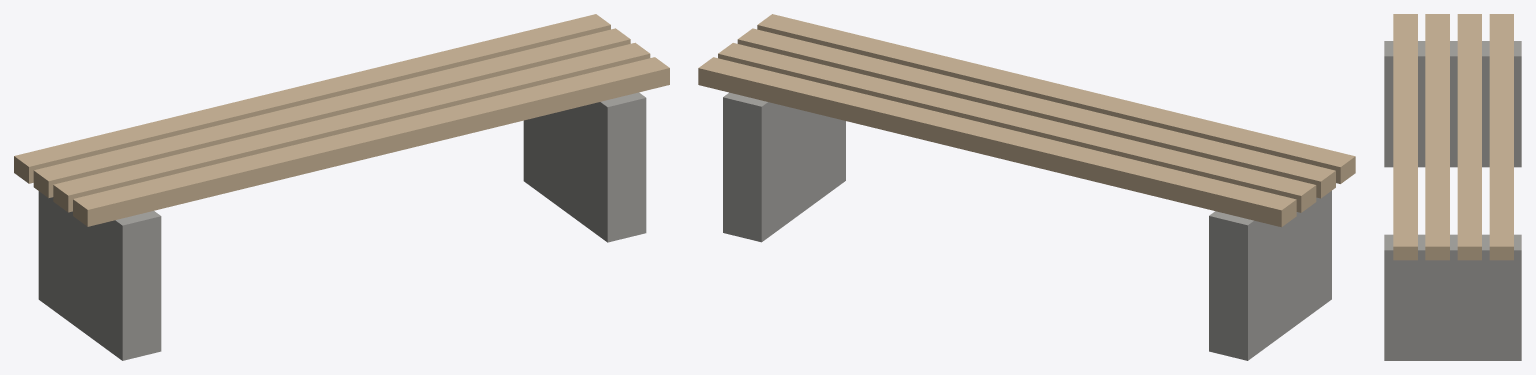
Rendered from HK_Bench.glb.
The picture shows the model from 3 angles, left to right: view 1: azimuth 30°, elevation 25°; view 2: azimuth 150°, elevation 25°; view 3: azimuth 270°, elevation 25°; orthographic projection. The views are drawn at different scales.
Visible parts, largest first — view 1: HK_Bench; view 2: HK_Bench; view 3: HK_Bench.
Boxes of the visible parts, left/top/right/bottom form: HK_Bench: left=14, top=14, right=669, bottom=360; HK_Bench: left=698, top=14, right=1355, bottom=360; HK_Bench: left=1384, top=14, right=1521, bottom=360.
Size of the model in its own units: 1.8 by 0.455 by 0.45.
